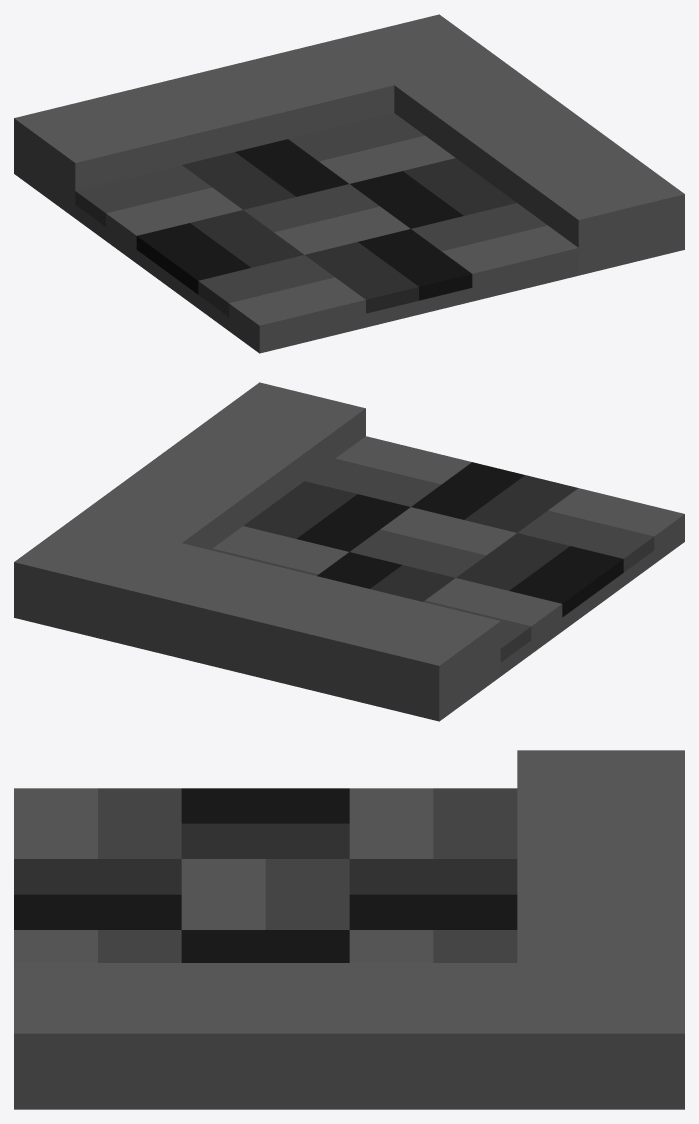
The model's file is brick_ground3.obj.
The picture shows the model from 3 angles, top to bottom: view 1: azimuth 30°, elevation 25°; view 2: azimuth 150°, elevation 25°; view 3: azimuth 270°, elevation 25°; orthographic projection. The views are drawn at different scales.
Bounding box in the file's own units: 3.2 × 0.4 × 3.2.
Materials: 1 (1 with a texture image).
